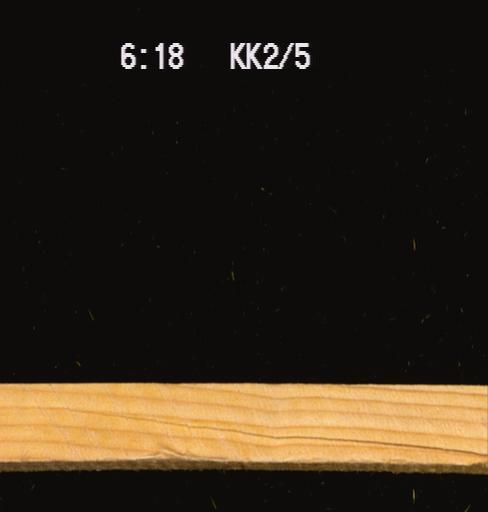split: (170, 423, 487, 457)
